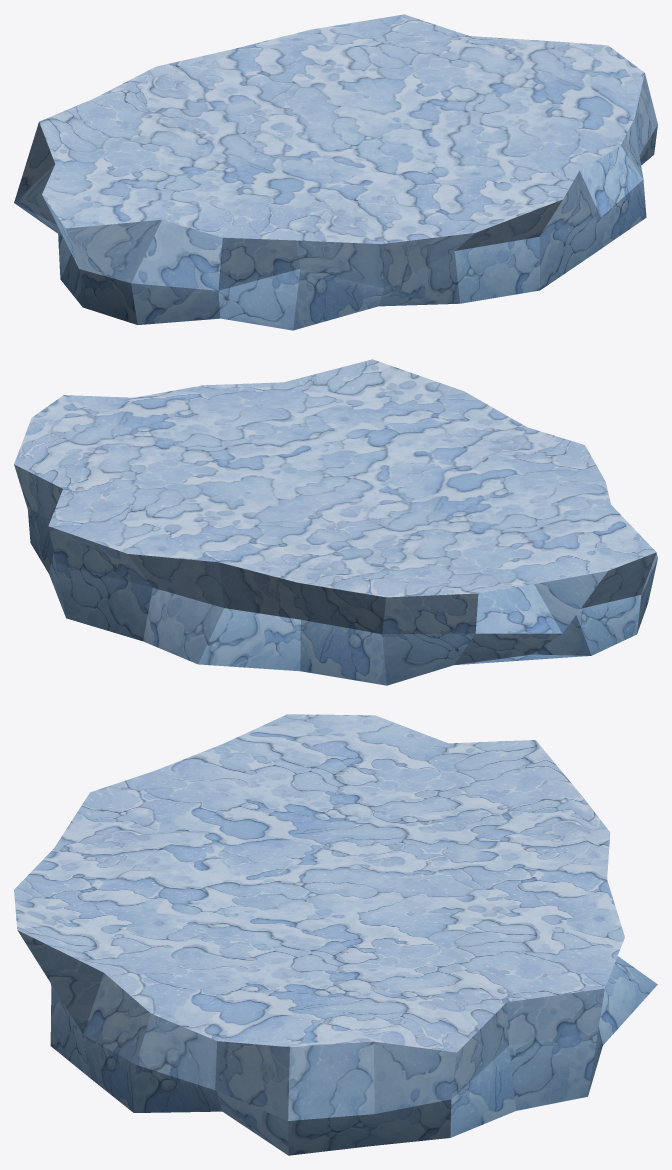
File: ice_floe_b.glb
3 views of the same model, one above another, from view 1: azimuth 30°, elevation 25°; view 2: azimuth 150°, elevation 25°; view 3: azimuth 270°, elevation 25° (orthographic). The views are drawn at different scales.
Visible parts, largest first — view 1: ice_floe_b; view 2: ice_floe_b; view 3: ice_floe_b.
Part boxes in pixels (left/top/right/bottom): ice_floe_b: left=14, top=14, right=657, bottom=330; ice_floe_b: left=14, top=359, right=657, bottom=685; ice_floe_b: left=14, top=714, right=657, bottom=1155.
Bounding box in the file's own units: 11.51 × 1.92 × 8.77.
Materials: 1 (1 with a texture image).
